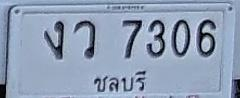0: (171, 18, 190, 56)
3: (146, 19, 165, 57)
6: (197, 18, 216, 56)
7: (122, 19, 142, 58)
A07: (44, 20, 64, 59)
A37: (74, 20, 96, 58)
CBI: (92, 69, 150, 96)
